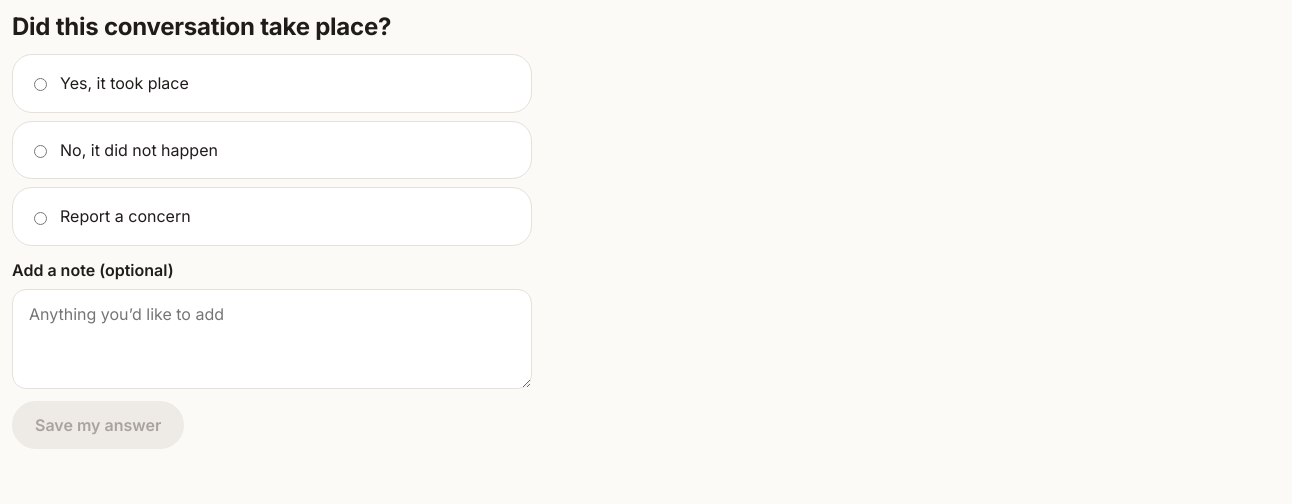
it: submitting outcomes › 16. typed errors are shown in friendly words, never raw SQL
The image size is (1292, 504).
Click the radio button labelled "Yes, it took place": (40,85) [34,78,47,91]
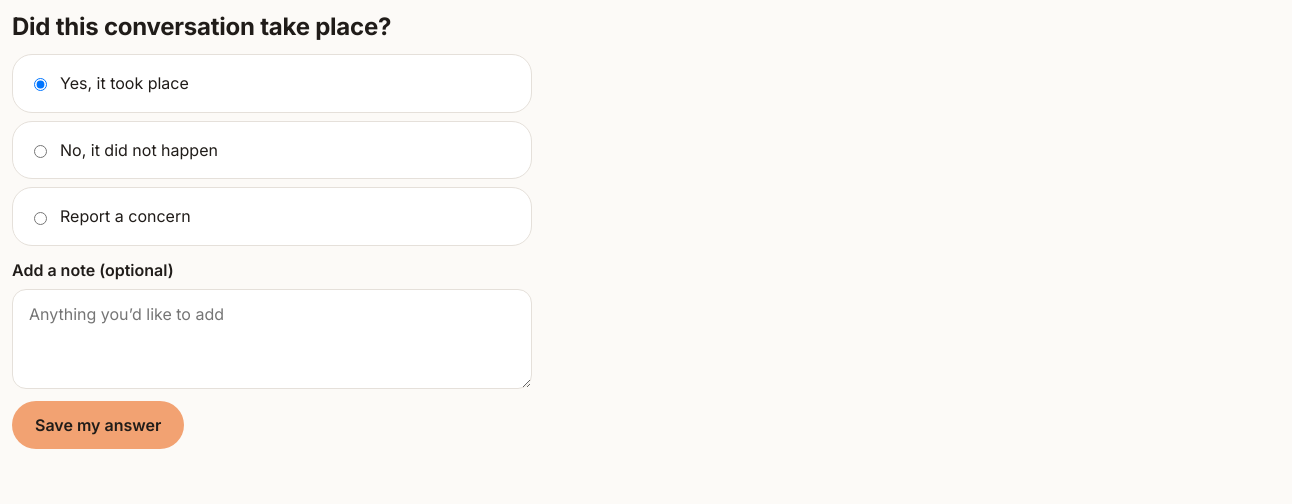
Click the button "Save my answer": (98,425) [12,401,184,449]
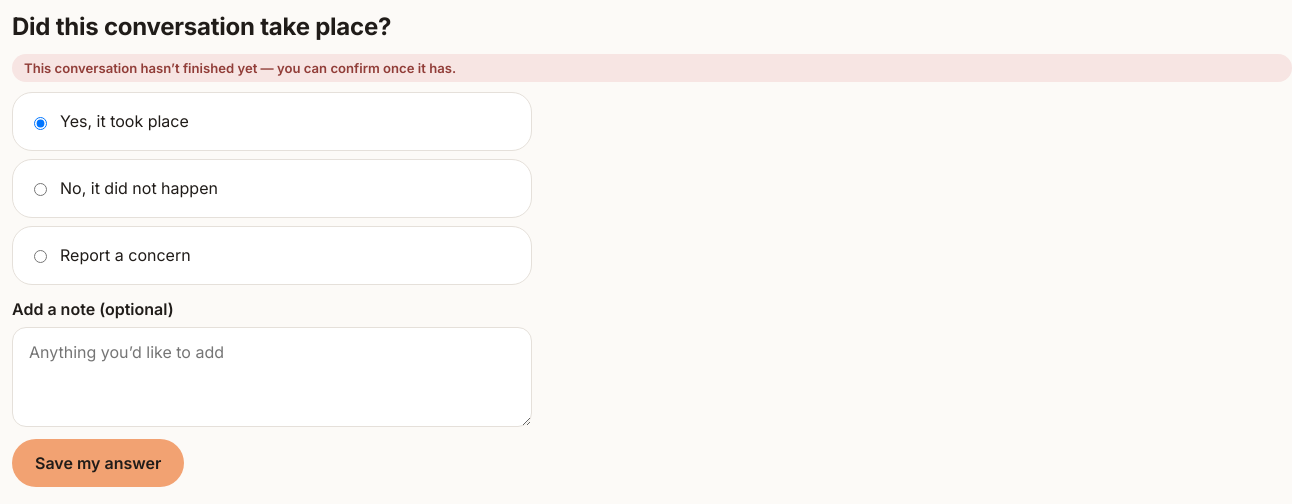
Now the message shows "hasn’t finished yet", box [24,60,456,76]
